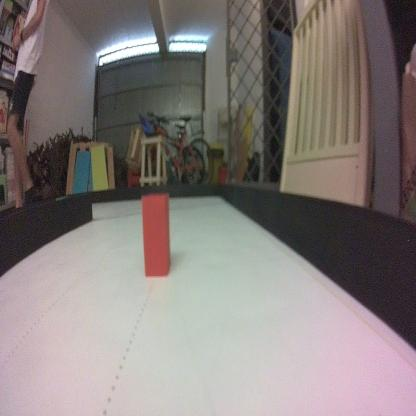red: (140, 191, 173, 281)
